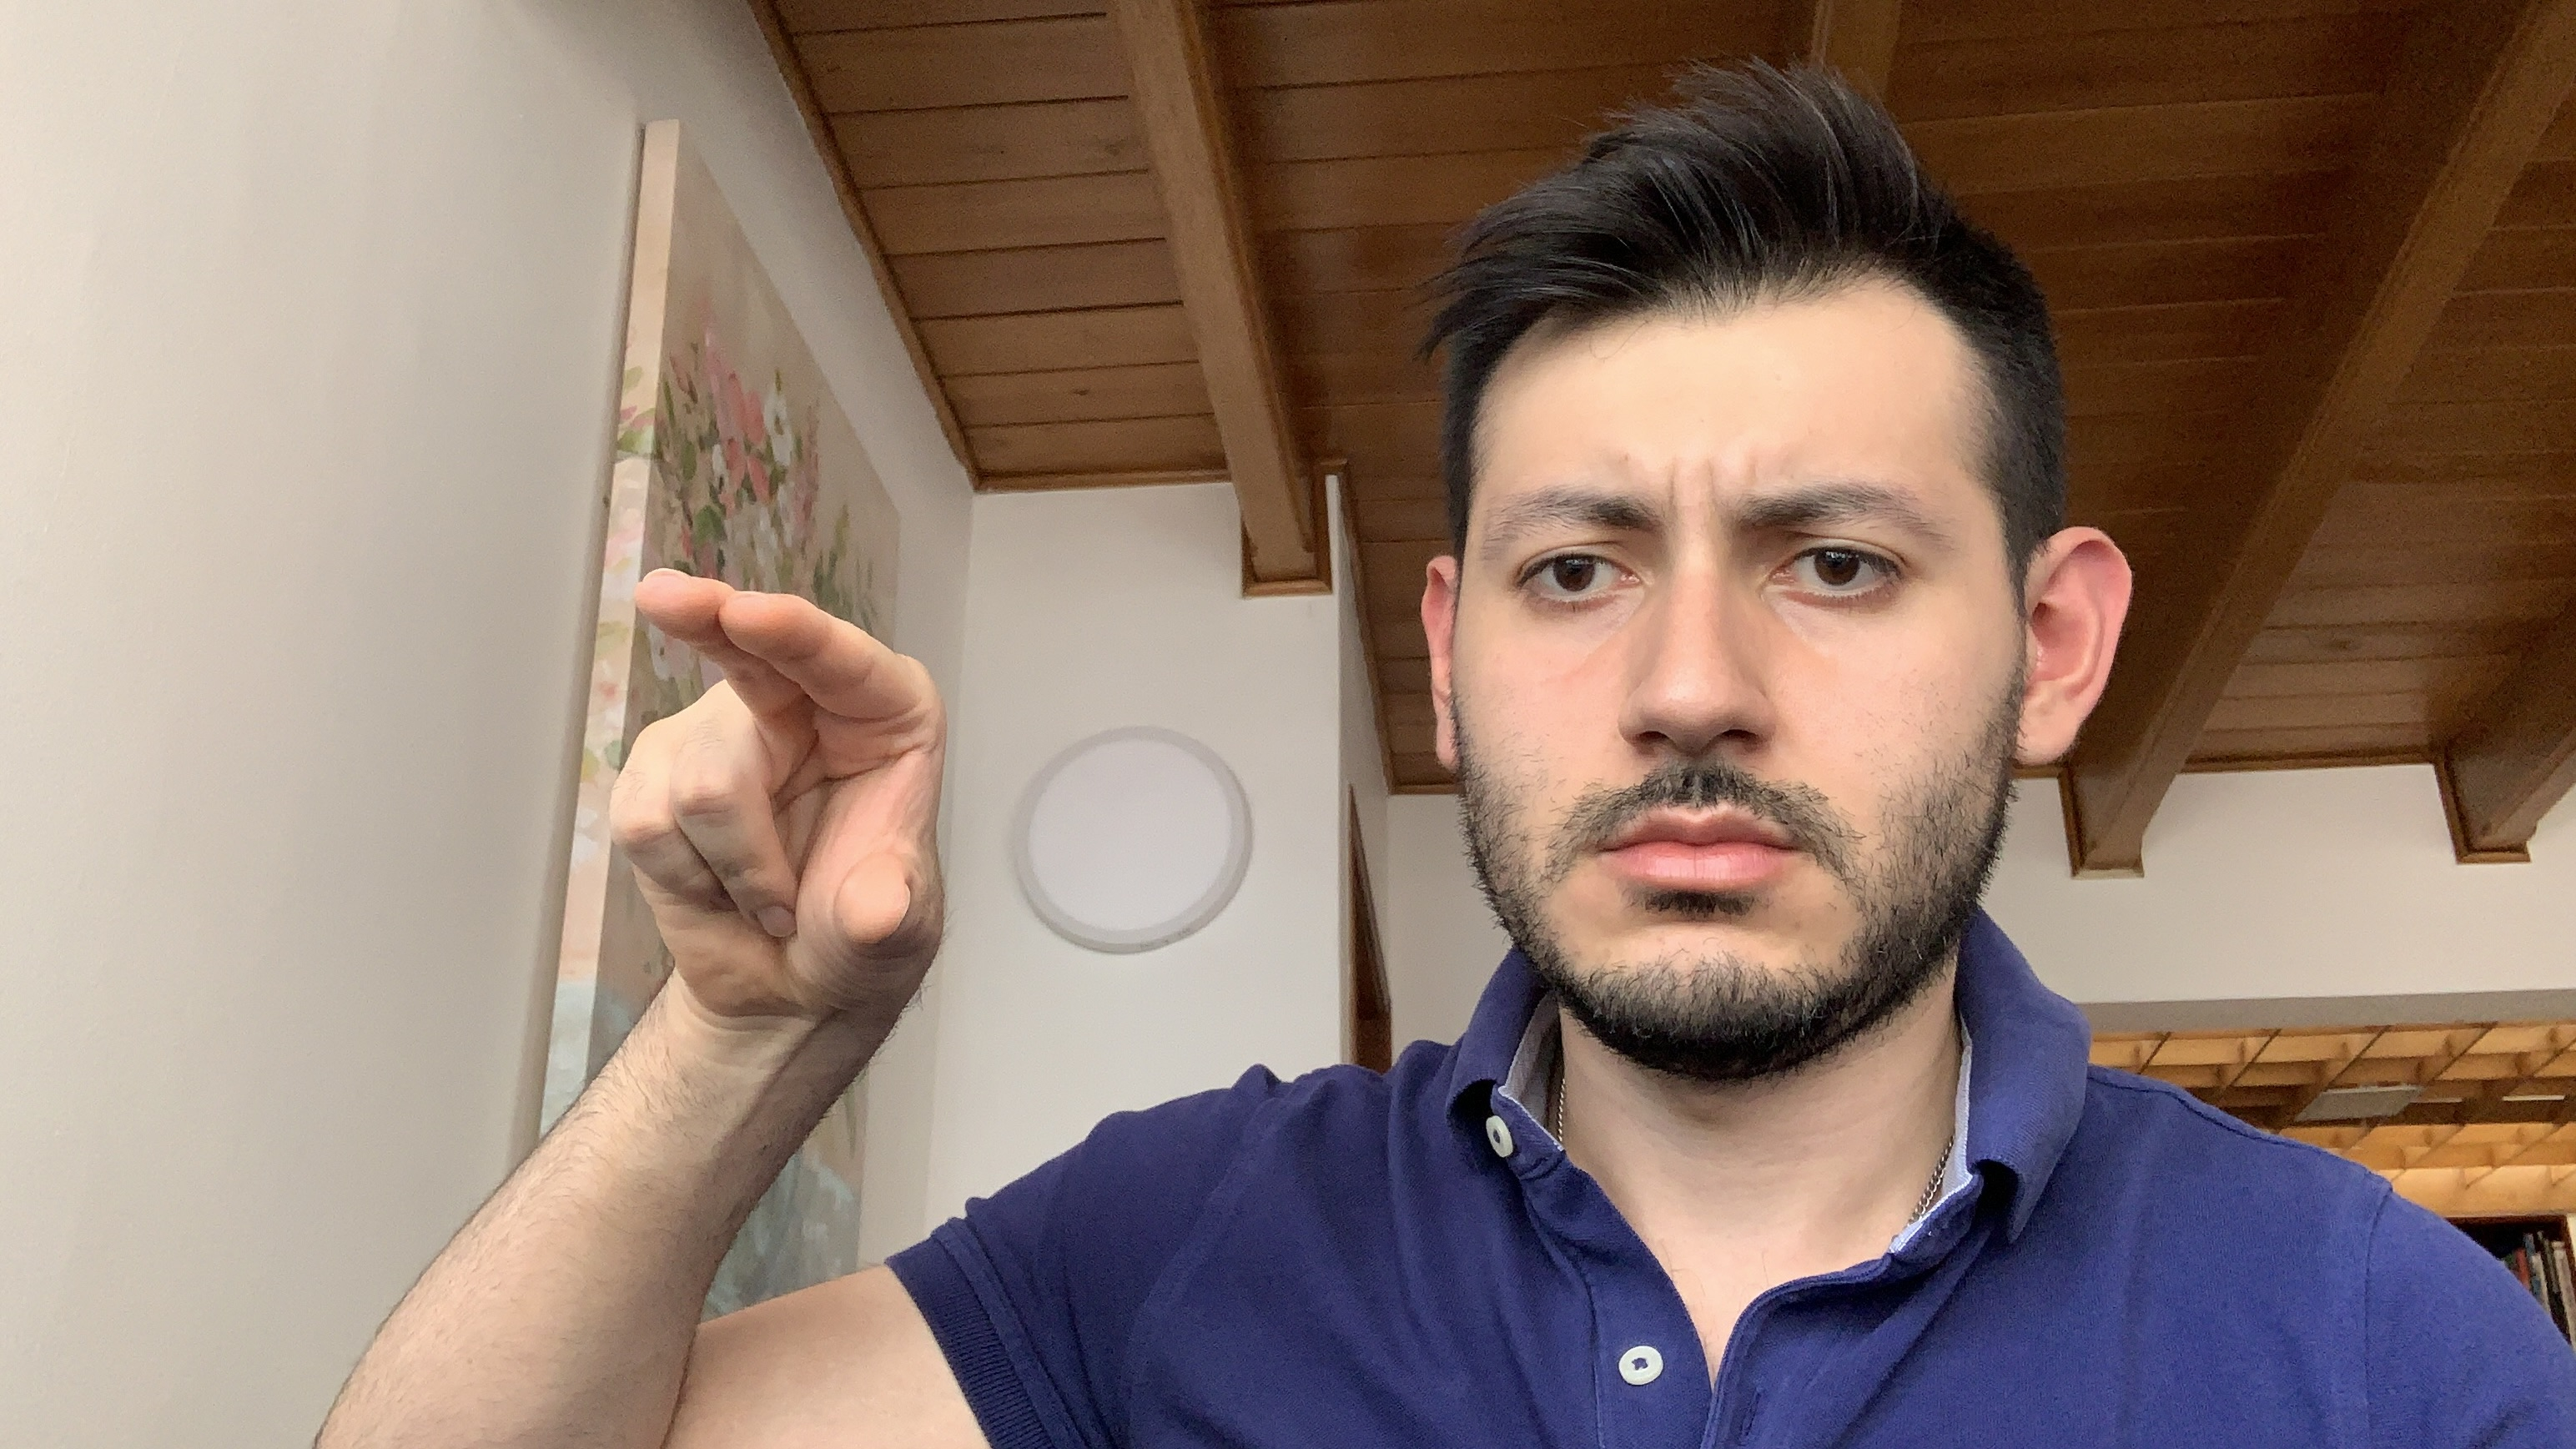No: (598, 559, 968, 1063)
